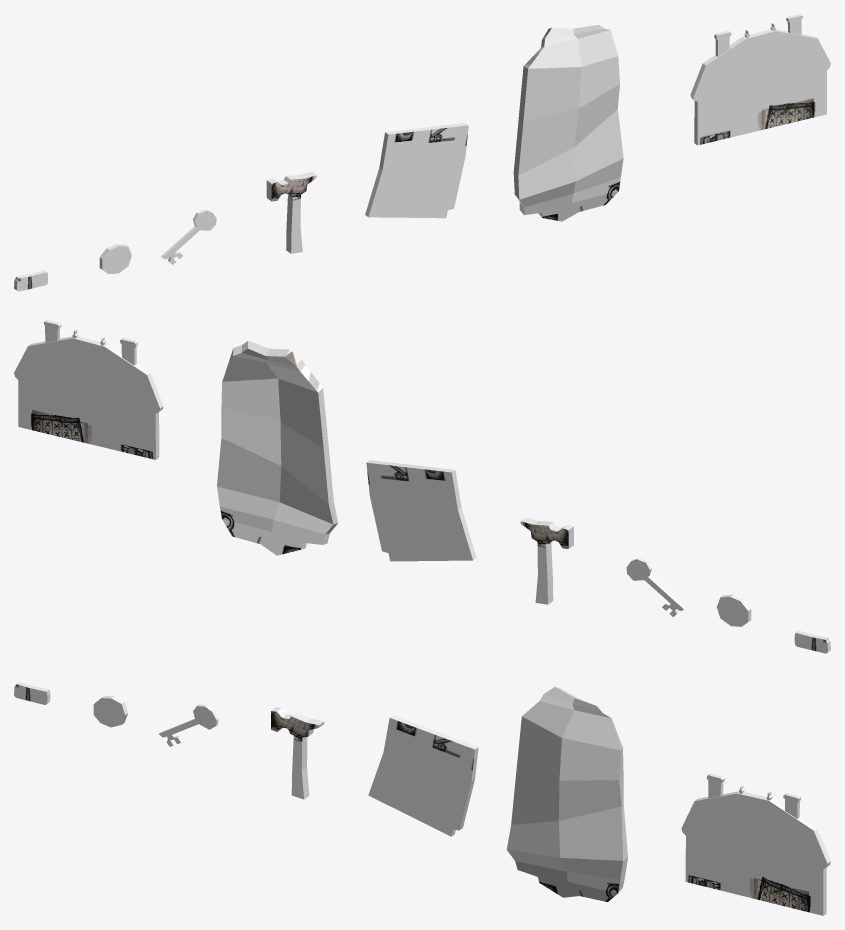
The model's file is pickUps.fbx.
The picture shows the model from 3 angles, top to bottom: view 1: azimuth 30°, elevation 25°; view 2: azimuth 150°, elevation 25°; view 3: azimuth 330°, elevation 25°; orthographic projection. The views are drawn at different scales.
Visible parts, largest first — view 1: sweater, dollHouse, chalender, hammer, key, eyeball, brickPickUp; view 2: sweater, dollHouse, chalender, hammer, key, eyeball; view 3: sweater, dollHouse, chalender, hammer, key, eyeball, brickPickUp.
Part boxes in pixels (x1,y1,x2,y2): sweater: [513, 24, 623, 221]; dollHouse: [690, 14, 830, 145]; chalender: [365, 123, 468, 218]; hammer: [266, 172, 316, 253]; key: [160, 209, 216, 264]; eyeball: [99, 244, 131, 274]; brickPickUp: [14, 270, 48, 291]; sweater: [217, 341, 337, 555]; dollHouse: [14, 320, 163, 459]; chalender: [366, 460, 476, 561]; hammer: [520, 517, 573, 604]; key: [626, 558, 685, 616]; eyeball: [717, 594, 751, 626]; sweater: [506, 687, 627, 901]; dollHouse: [681, 773, 830, 915]; chalender: [368, 715, 478, 836]; hammer: [271, 707, 324, 799]; key: [159, 704, 218, 746]; eyeball: [93, 696, 127, 727]; brickPickUp: [14, 682, 50, 704].
Size of the model in its own units: 30.37 by 7.19 by 1.84.
